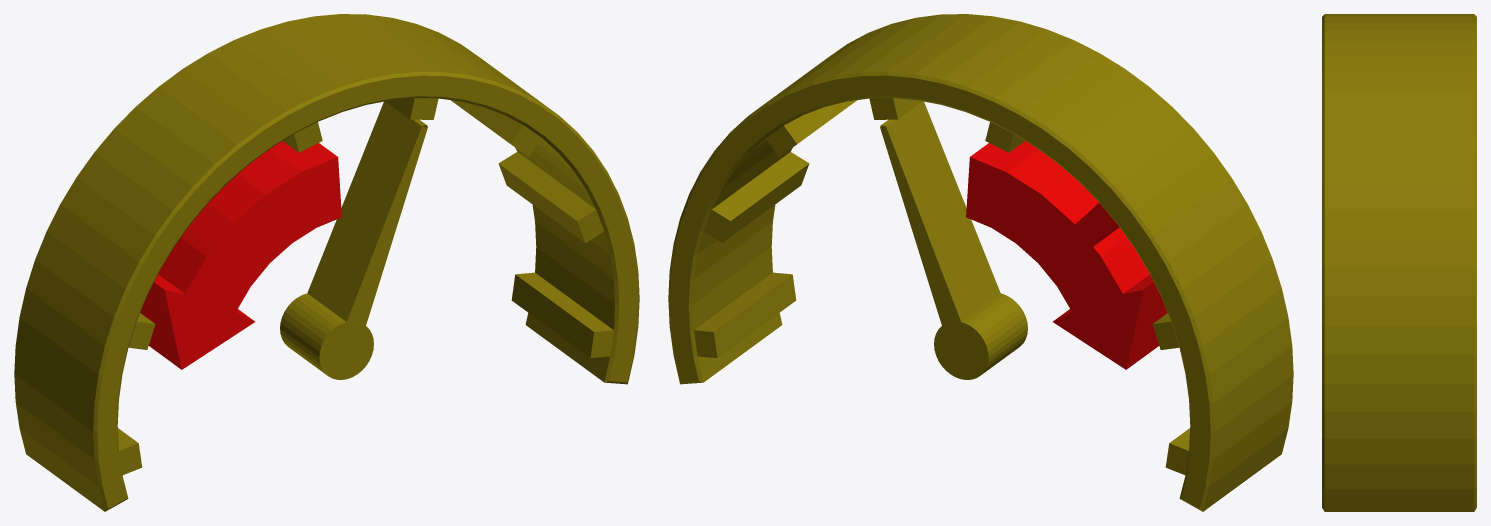
File: ShapeDrop_FinalAssets-SpeedUpPowerUp-Final-Optimized.fbx
3 views of the same model, side by side, from view 1: azimuth 30°, elevation 25°; view 2: azimuth 150°, elevation 25°; view 3: azimuth 270°, elevation 25° (orthographic). The views are drawn at different scales.
Parts seen in each view (by area): view 1: SpeedDial, Arrow, Needle; view 2: SpeedDial, Arrow, Needle; view 3: SpeedDial.
Part boxes in pixels (box(x1,y1,x2,y2)): SpeedDial: box(14, 14, 639, 511); Arrow: box(140, 141, 341, 369); Needle: box(280, 101, 427, 379); SpeedDial: box(668, 14, 1293, 511); Arrow: box(966, 141, 1167, 369); Needle: box(880, 101, 1027, 379); SpeedDial: box(1322, 14, 1476, 511).
Bounding box in the file's own units: 100 × 64.51 × 25.92.
